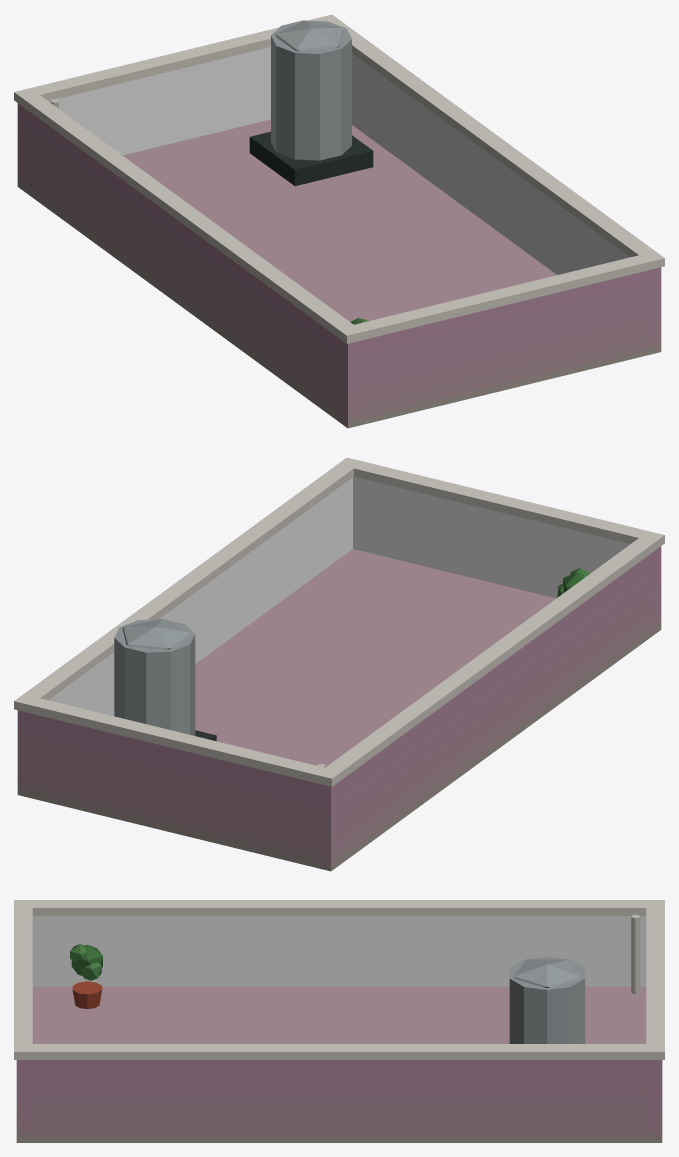
Rendered from mai_san_thuong_40.glb.
3 views of the same model, one above another, from view 1: azimuth 30°, elevation 25°; view 2: azimuth 150°, elevation 25°; view 3: azimuth 270°, elevation 25° (orthographic). The views are drawn at different scales.
Parts seen in each view (by area): view 1: mai_san_thuong_40; view 2: mai_san_thuong_40; view 3: mai_san_thuong_40.
Part boxes in pixels (left/top/right/bottom): mai_san_thuong_40: left=14, top=14, right=664, bottom=428; mai_san_thuong_40: left=14, top=457, right=664, bottom=871; mai_san_thuong_40: left=14, top=900, right=664, bottom=1142.
Size of the model in its own units: 4.06 by 1.76 by 7.36.
